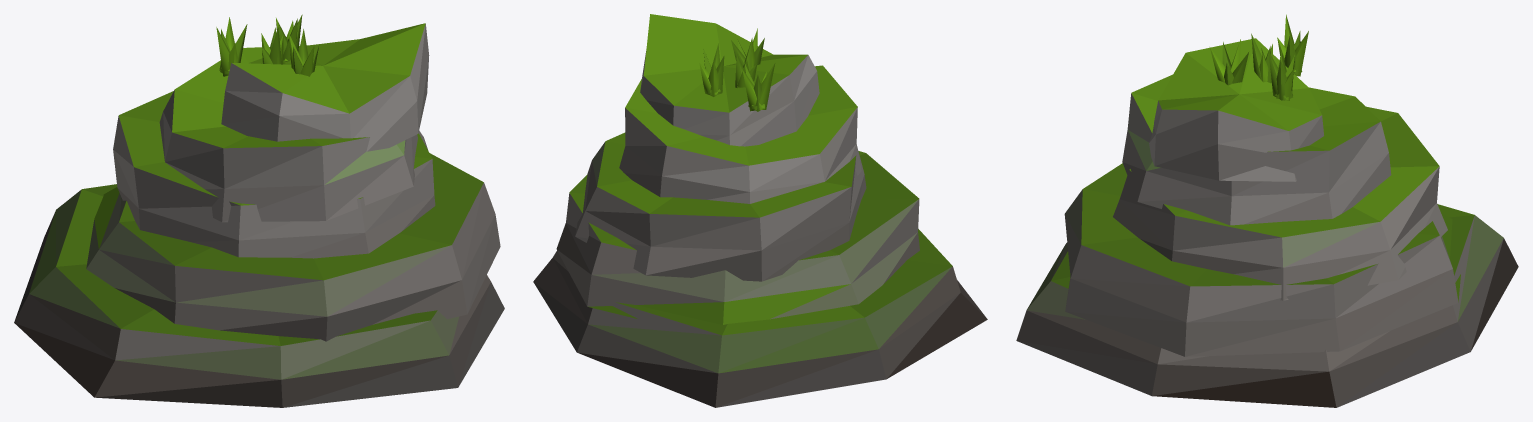
The model's file is batu_slate_limestone_702781.glb.
3 renders of one model, left to right at view 1: azimuth 30°, elevation 25°; view 2: azimuth 150°, elevation 25°; view 3: azimuth 270°, elevation 25°, orthographic. The views are drawn at different scales.
Visible parts, largest first — view 1: Batu_Pipih_Bertumpuk; view 2: Batu_Pipih_Bertumpuk; view 3: Batu_Pipih_Bertumpuk.
Part boxes in pixels (x1=…): Batu_Pipih_Bertumpuk: x1=14, y1=14, x2=504, y2=407; Batu_Pipih_Bertumpuk: x1=533, y1=14, x2=987, y2=407; Batu_Pipih_Bertumpuk: x1=1016, y1=14, x2=1518, y2=407.
Size of the model in its own units: 4.9 by 3.17 by 5.16.
